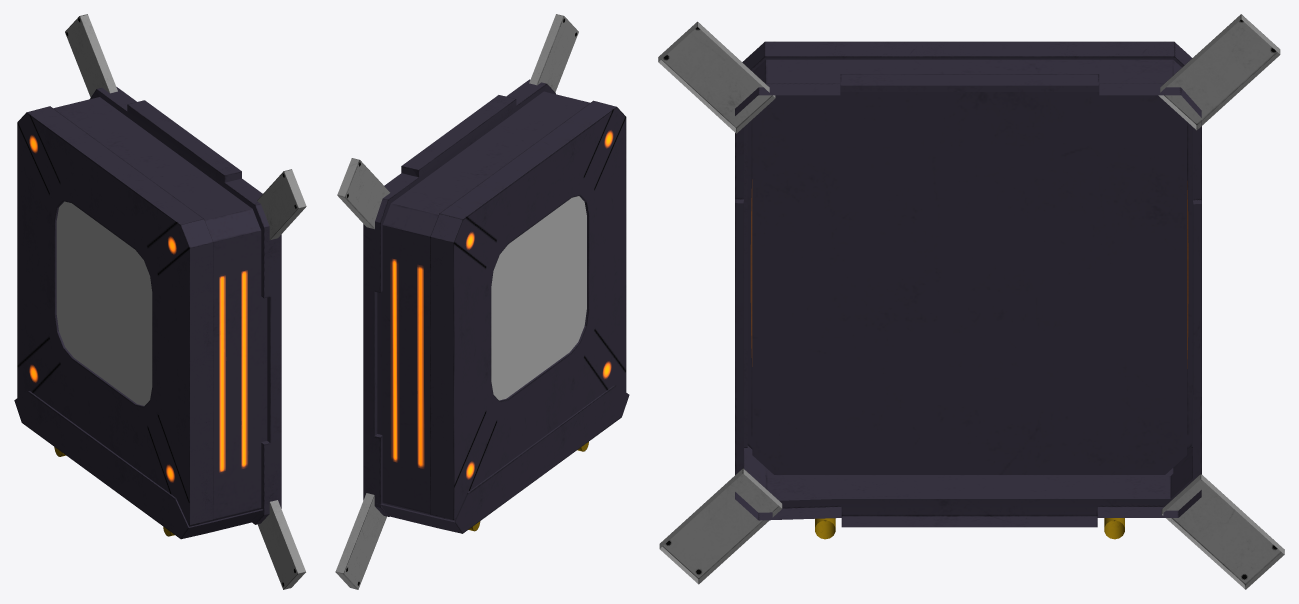
The model's file is caja para la llave text 1.fbx.
3 views of the same model, side by side, from view 1: azimuth 30°, elevation 25°; view 2: azimuth 150°, elevation 25°; view 3: azimuth 270°, elevation 25° (orthographic). The views are drawn at different scales.
Parts seen in each view (by area): view 1: Tapa, polySurface1, cristal, polySurface2, polySurface3, decos; view 2: Tapa, polySurface1, cristal, polySurface2, polySurface3, decos; view 3: polySurface1, polySurface2, decos, Tapa.
Boxes of the visible parts, box(x1,y1,x2,y2) form: Tapa: box(17, 106, 213, 525); polySurface1: box(53, 97, 261, 526); cristal: box(56, 201, 152, 405); polySurface2: box(90, 87, 281, 524); polySurface3: box(14, 391, 263, 539); decos: box(54, 14, 306, 589); Tapa: box(430, 100, 626, 519); polySurface1: box(382, 91, 590, 520); cristal: box(491, 196, 586, 400); polySurface2: box(363, 79, 555, 516); polySurface3: box(376, 385, 629, 533); decos: box(335, 14, 588, 589); polySurface1: box(744, 59, 1192, 477); polySurface2: box(735, 74, 1201, 527); decos: box(658, 14, 1284, 589); Tapa: box(742, 41, 1192, 447).
Size of the model in its own units: 4.47 by 19.9 by 19.78.
3 materials, 2 textured.
